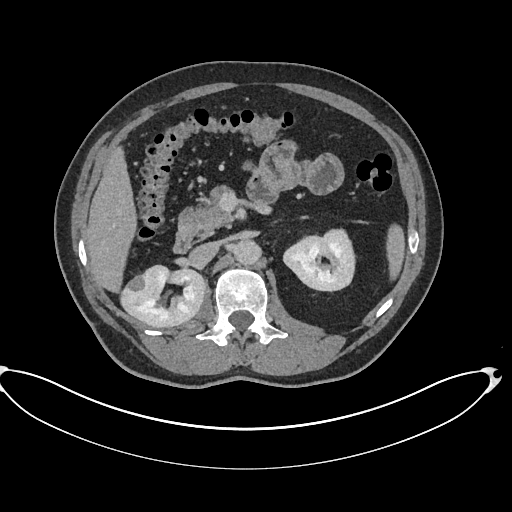Lesion: (125, 273, 147, 290)
